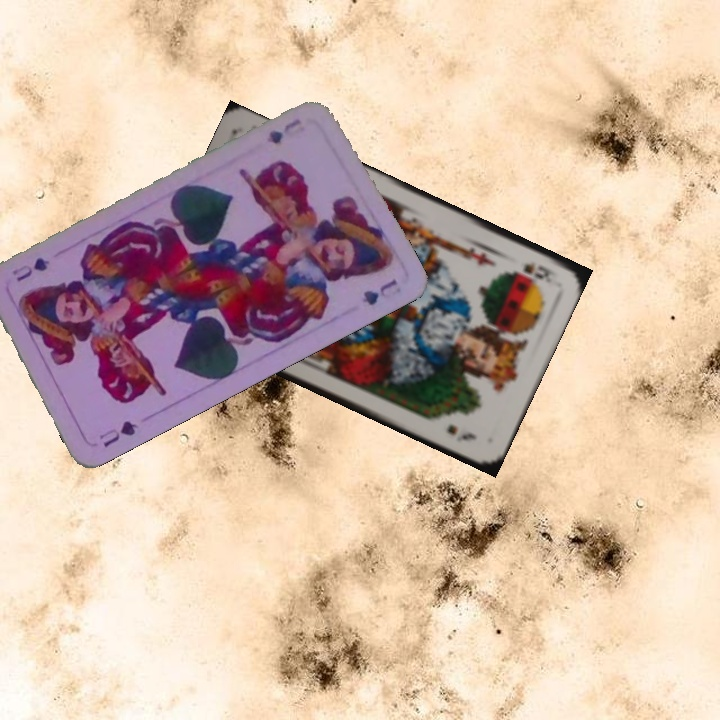GU: (95, 416, 141, 450), (262, 114, 304, 147)
SK: (518, 257, 561, 282)
